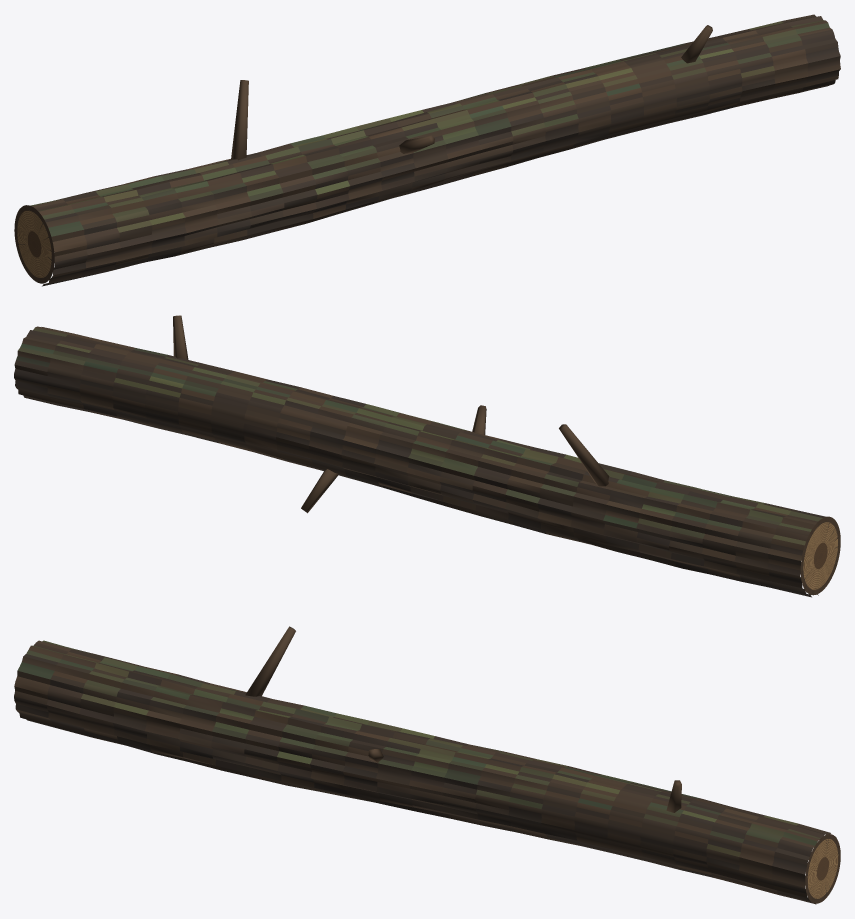
File: log.glb
3 views of the same model, one above another, from view 1: azimuth 30°, elevation 25°; view 2: azimuth 150°, elevation 25°; view 3: azimuth 330°, elevation 25° (orthographic).
Visible parts, largest first — view 1: log; view 2: log; view 3: log.
Part boxes in pixels (x1,y1,x2,y2): log: (14, 14, 840, 286); log: (14, 315, 840, 597); log: (14, 626, 840, 904).
Size of the model in its own units: 6 by 1.09 by 0.7737.
